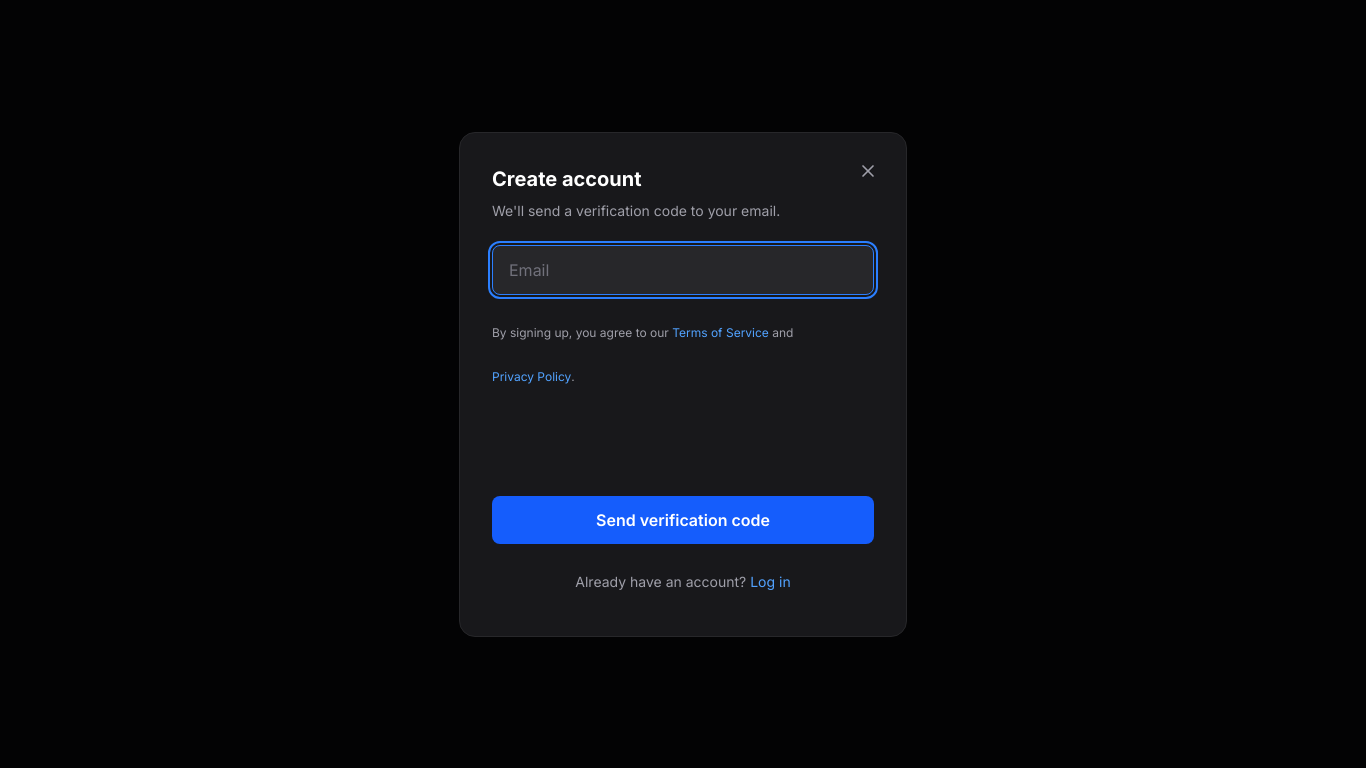
Test case: AuthModal › can switch from signup to login mode
Click the button "Log in".
click(770, 582)  # box x1=750 y1=560 x2=791 y2=604
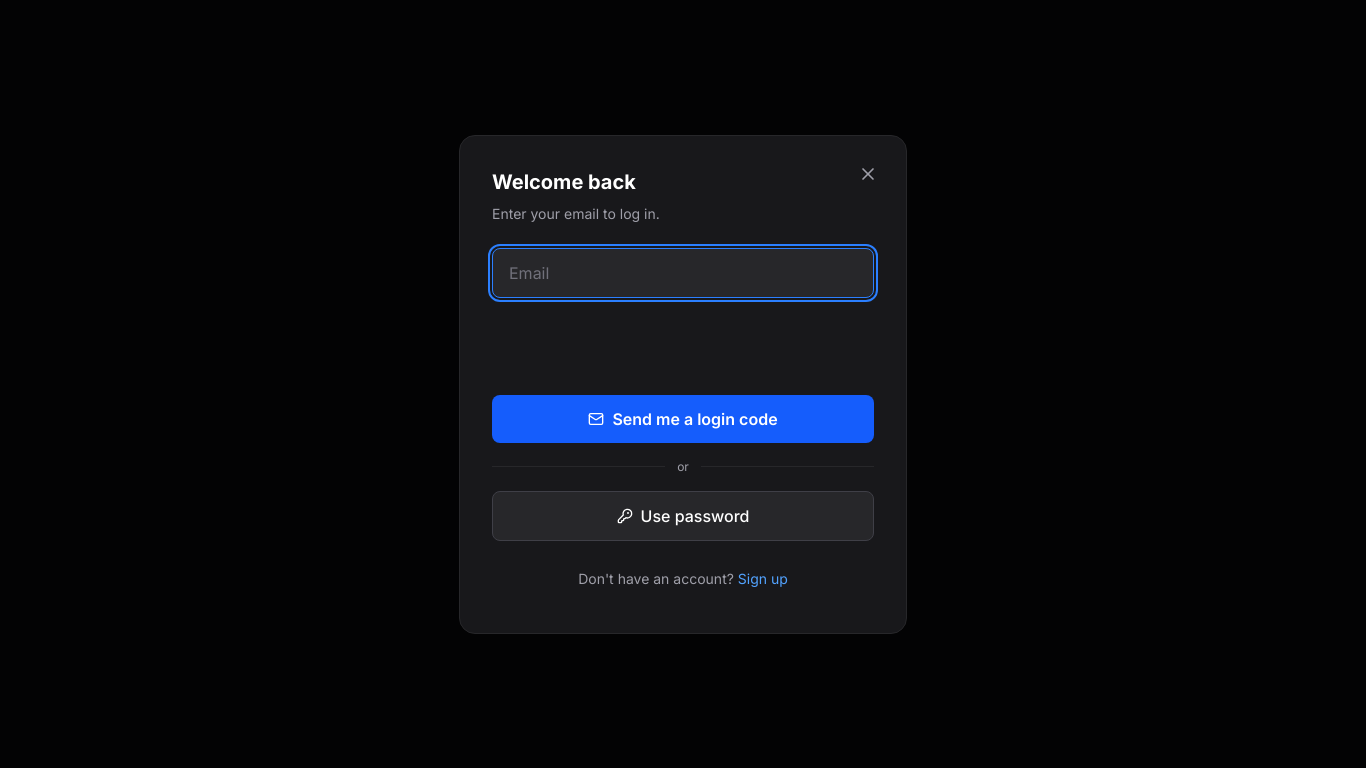
Check: the heading "Welcome back" is shown, box x1=492 y1=170 x2=636 y2=194
